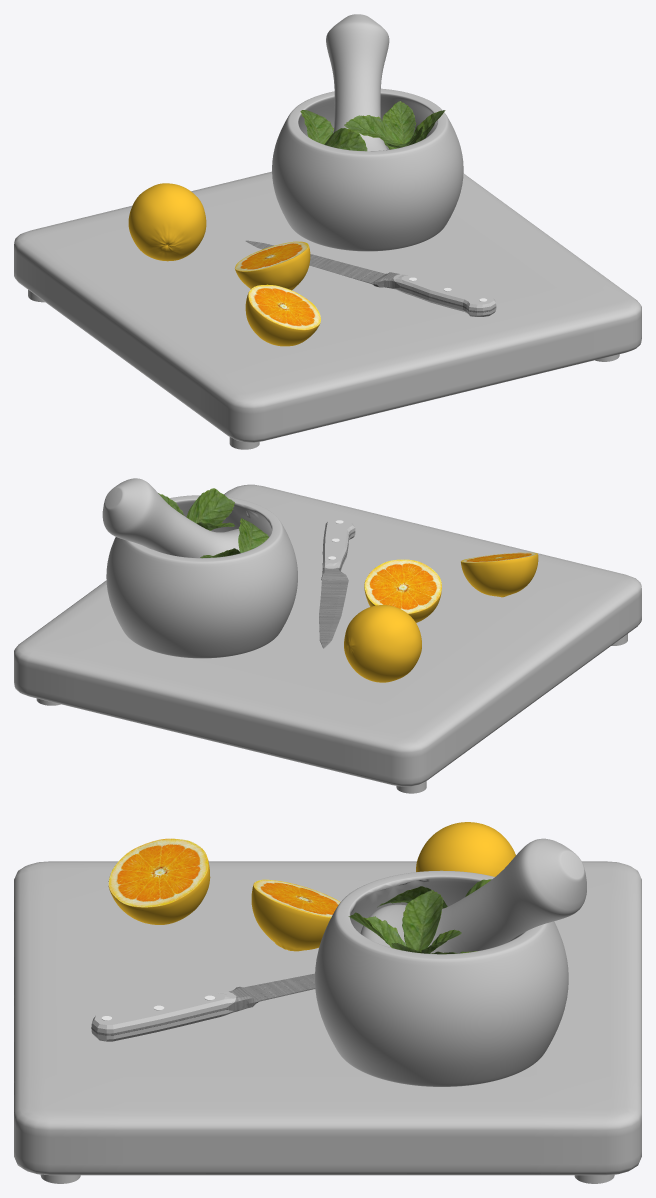
Rendered from limon doska ot.fbx.
3 views of the same model, one above another, from view 1: azimuth 30°, elevation 25°; view 2: azimuth 150°, elevation 25°; view 3: azimuth 270°, elevation 25° (orthographic). The views are drawn at different scales.
Parts seen in each view (by area): view 1: Arch51_03_desk; view 2: Arch51_03_desk; view 3: Arch51_03_desk.
Boxes of the visible parts, x1,y1,x2,y2 form: Arch51_03_desk: [14, 14, 641, 449]; Arch51_03_desk: [14, 478, 641, 793]; Arch51_03_desk: [14, 822, 641, 1183].
Bounding box in the file's own units: 35 × 17.82 × 35.
